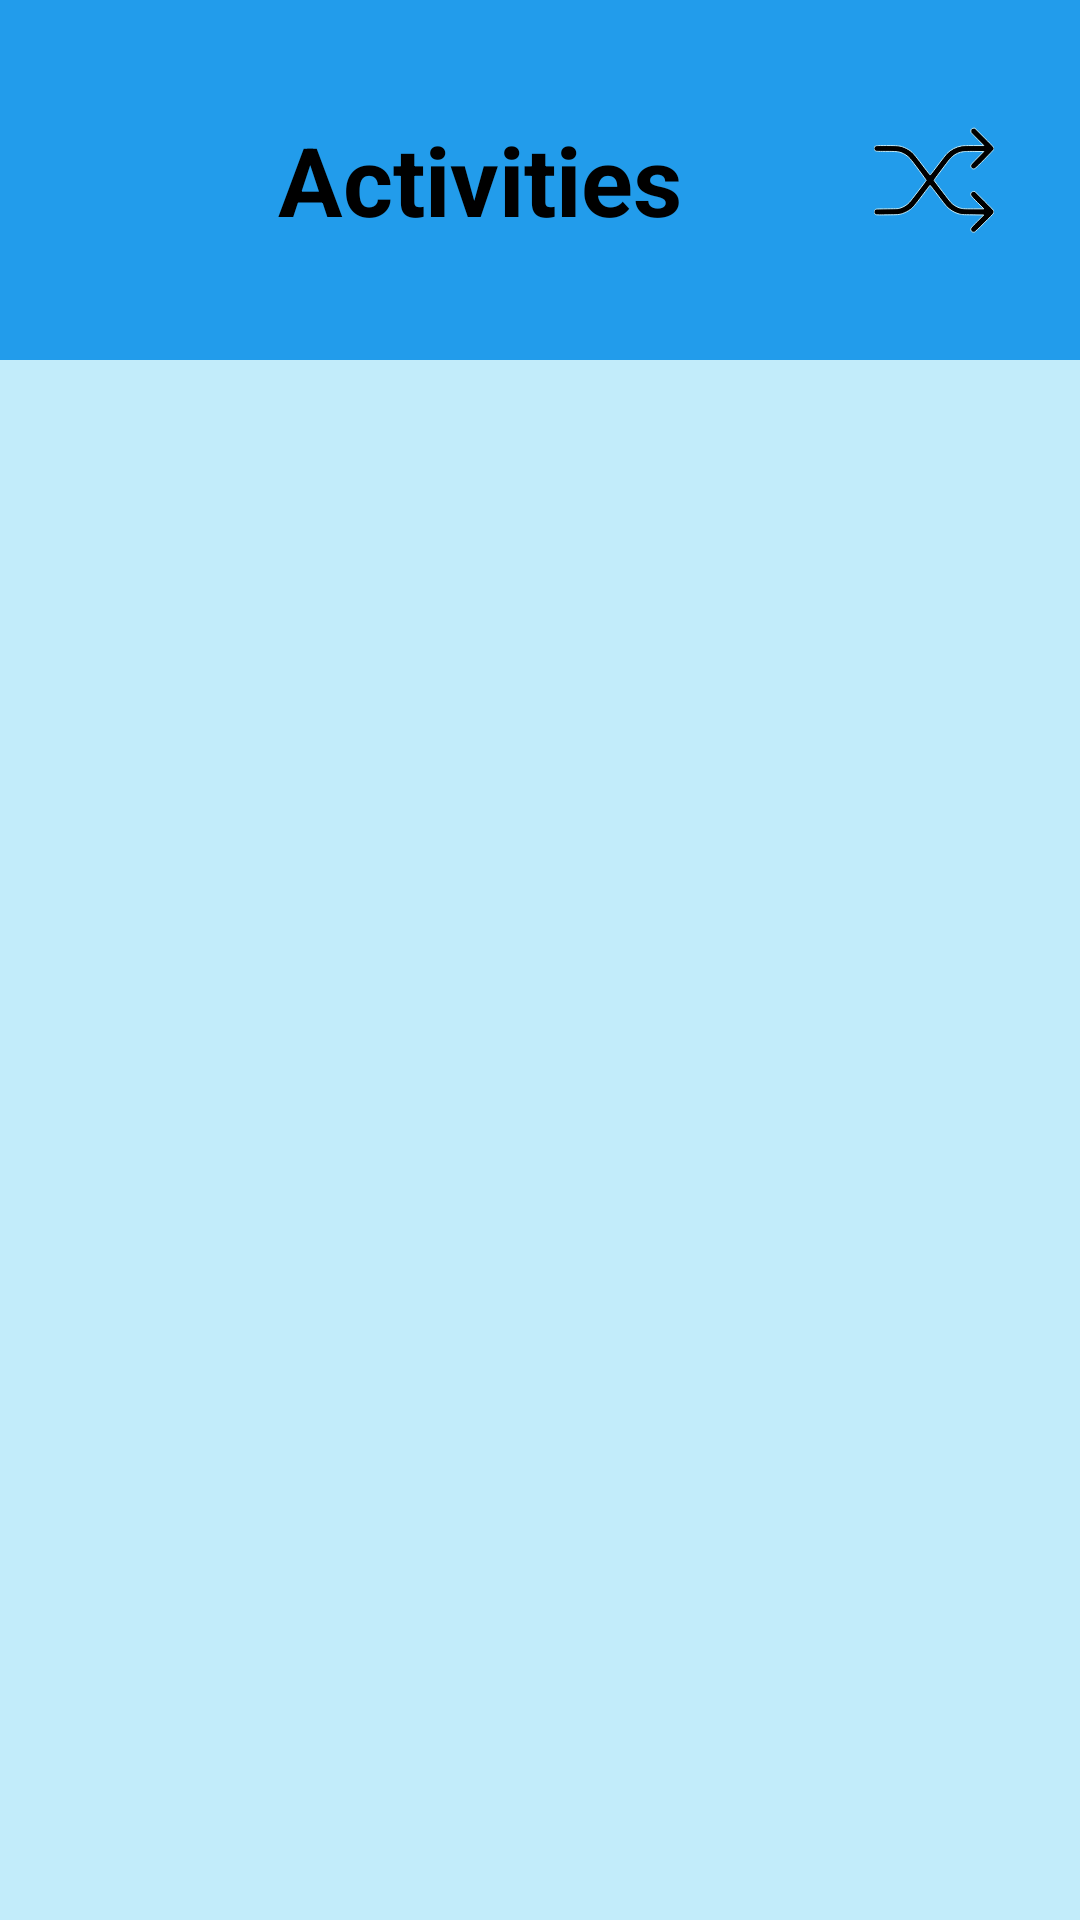

Named icons in this screenshot (1080px×1920px) and their centers, [x,y]:
aleatorio: [934,180]
